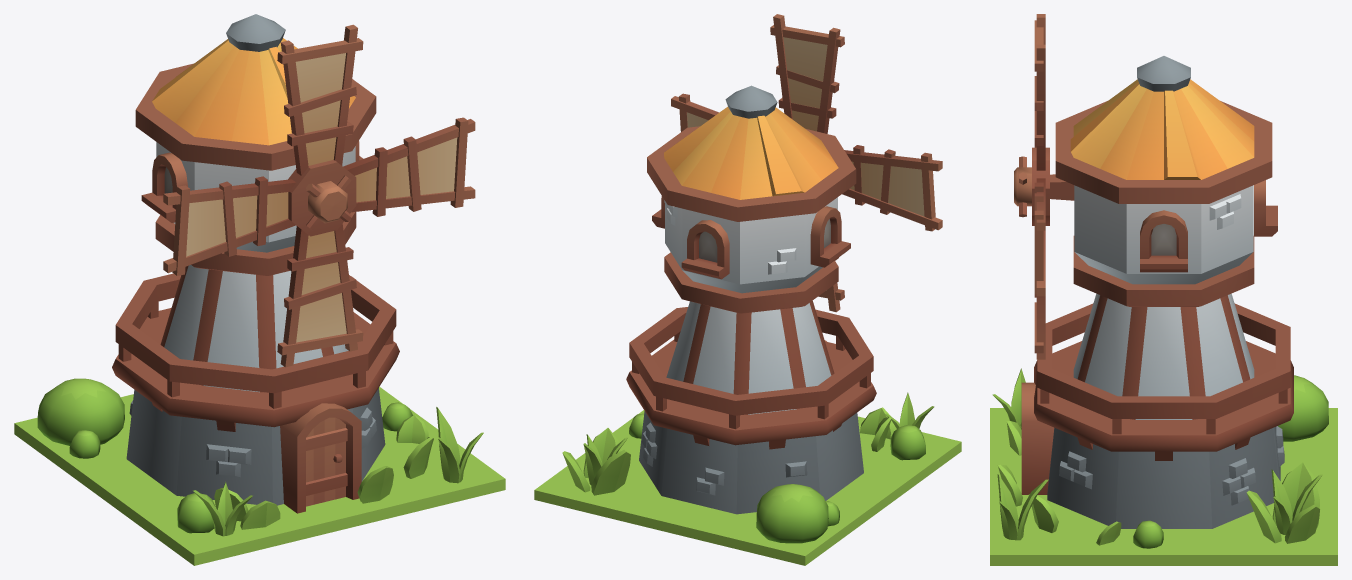
The model's file is windmill.glb.
3 renders of one model, left to right at view 1: azimuth 30°, elevation 25°; view 2: azimuth 150°, elevation 25°; view 3: azimuth 270°, elevation 25°, orthographic. The views are drawn at different scales.
Visible parts, largest first — view 1: Windmill; view 2: Windmill; view 3: Windmill.
Part boxes in pixels (bbox=[...]): Windmill: bbox=[14, 14, 505, 565]; Windmill: bbox=[534, 14, 961, 565]; Windmill: bbox=[990, 14, 1337, 565].
Size of the model in its own units: 0.2919 by 0.4298 by 0.29.
Materials: 2 (2 with a texture image).
